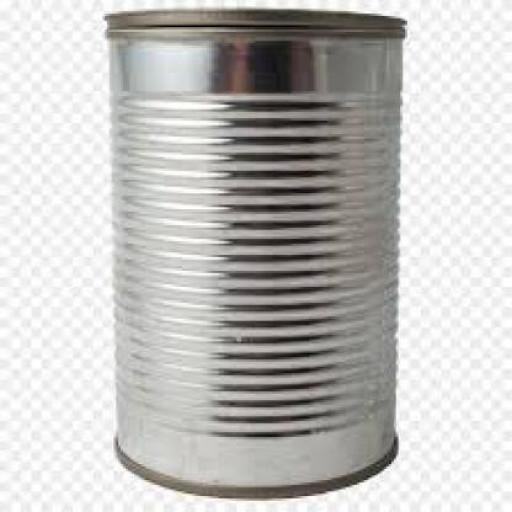metal: (100, 8, 403, 498)
